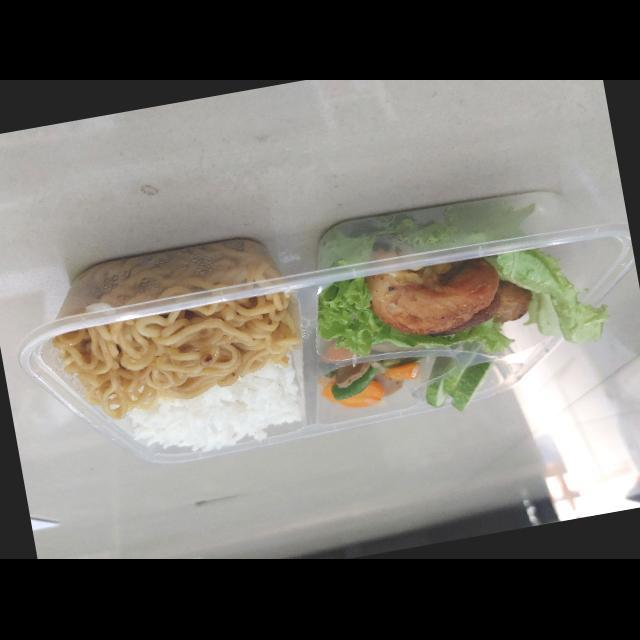bento: (18, 175, 634, 474)
